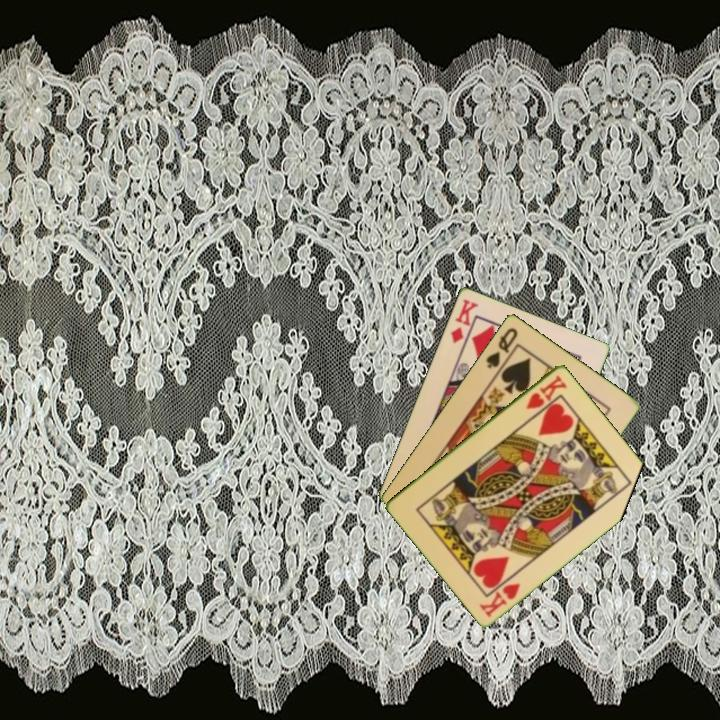Kd: (447, 295, 481, 346)
Kh: (522, 371, 570, 412), (476, 579, 523, 620)
Qs: (482, 323, 521, 371)
